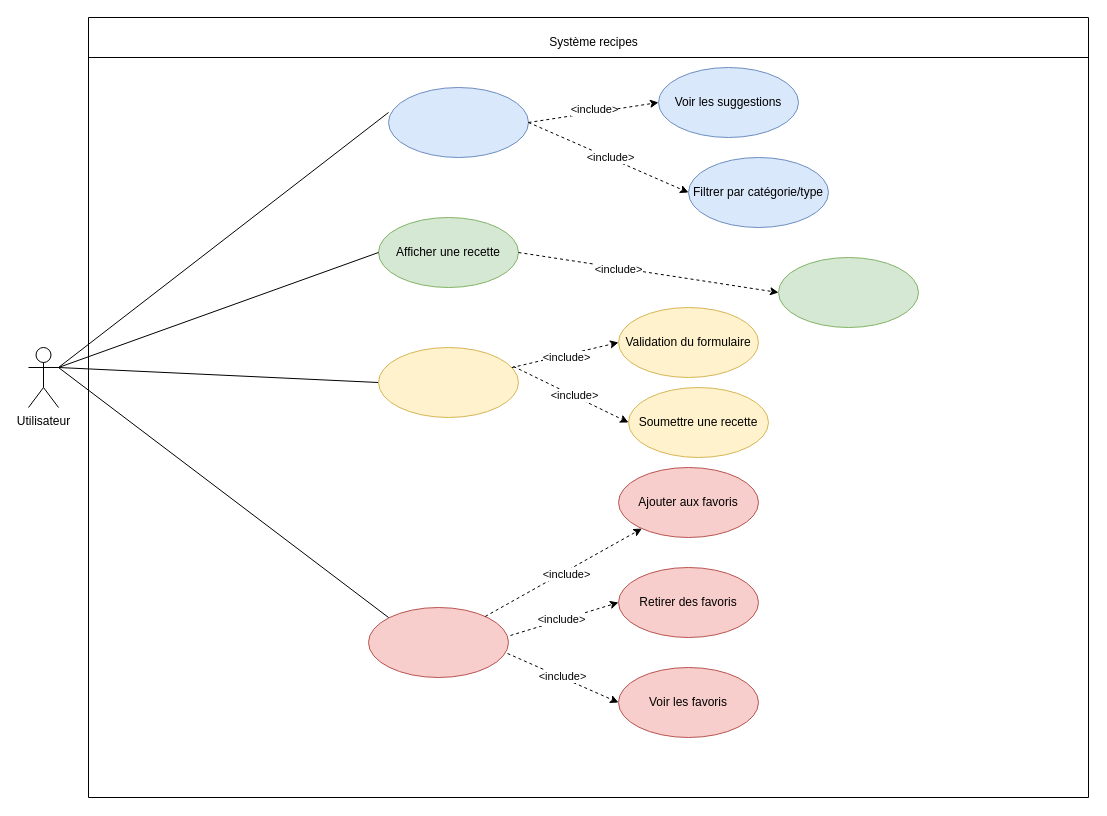
This 1107x816 diagram has some shape labels left out. Here are the shapes that lost their labels. From the top down, the centre of each, then its label:
At point (458, 122): "Rechercher une recette".
At point (848, 292): "Voir le détail d'une recette".
At point (448, 382): "Ajouter une recette".
At point (438, 642): "Gérer les favoris".
